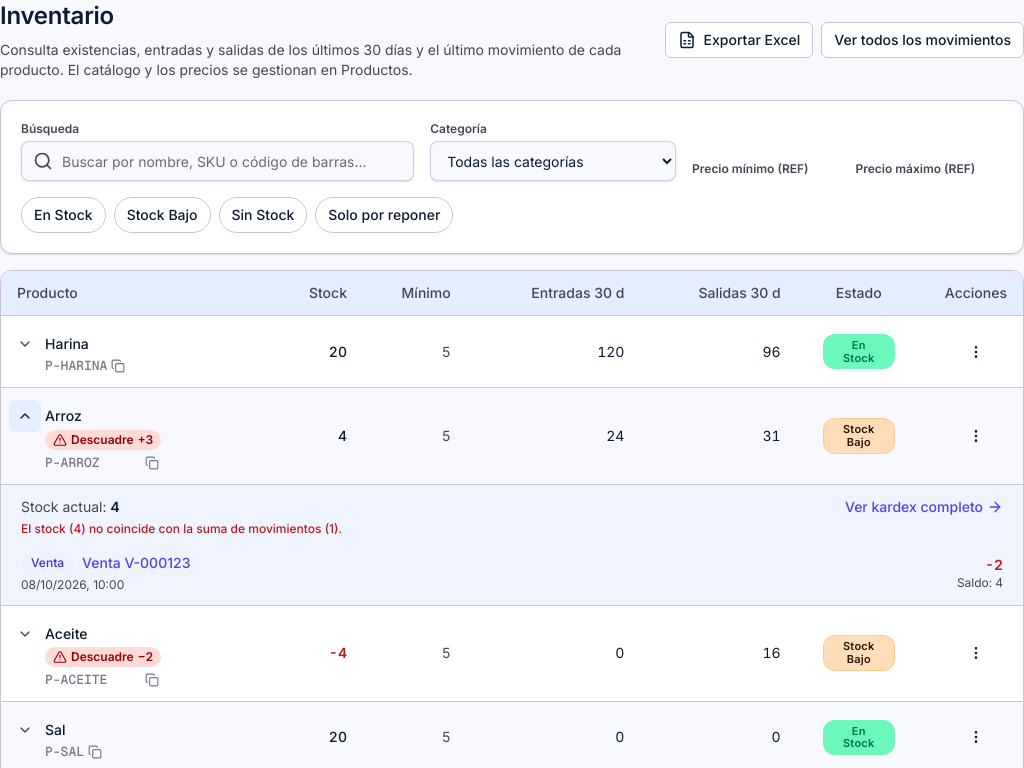
InventoryListPage · vista única de stock › movimientos en línea › keeps 'product' when a filter takes the product out of the page: it moves to the pinned block and comes back
Expected: the row named "Últimos movimientos de Arroz" is shown, x1=1 y1=484 x2=1023 y2=605
What coordinates should you click on to do the following:
click the button "Sin Stock"
I would click on:
 (263, 215)
Its box is x1=218 y1=197 x2=307 y2=233.
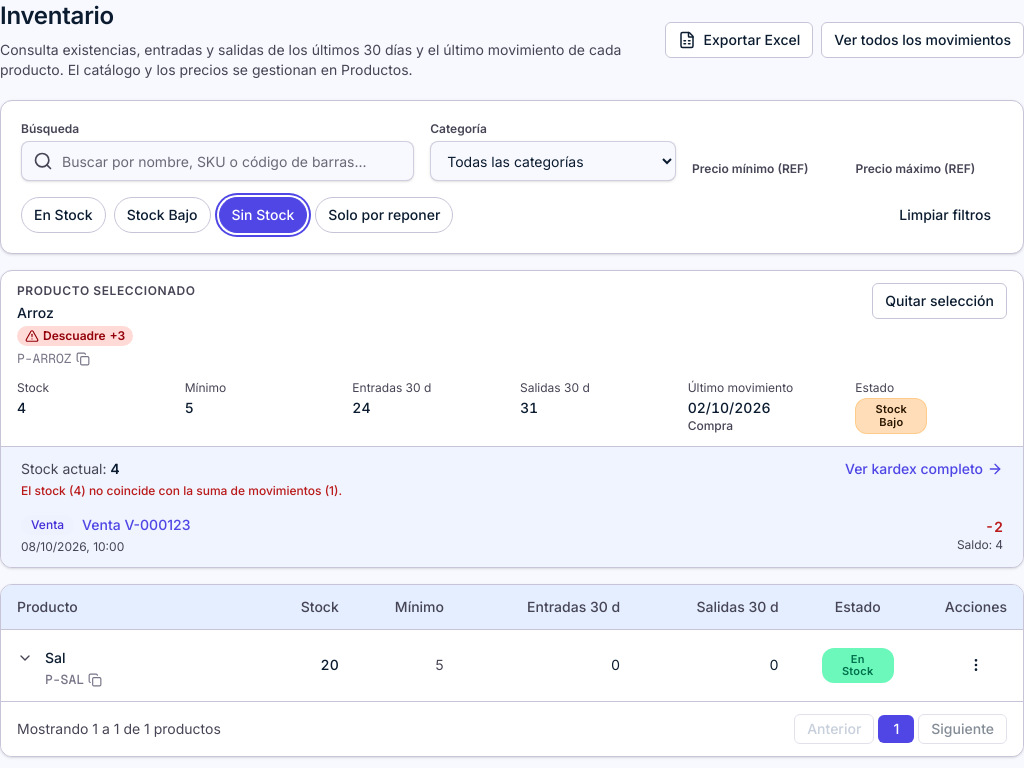
Expected: the text titled "Arroz" is shown, x1=17 y1=303 x2=54 y2=322
Expected: the element named "Últimos movimientos de Arroz" is shown, x1=1 y1=446 x2=1023 y2=566
What coordinates should you click on to do the following:
click the button "Limpiar filtros"
I would click on:
 (945, 215)
Its box is x1=887 y1=197 x2=1003 y2=233.
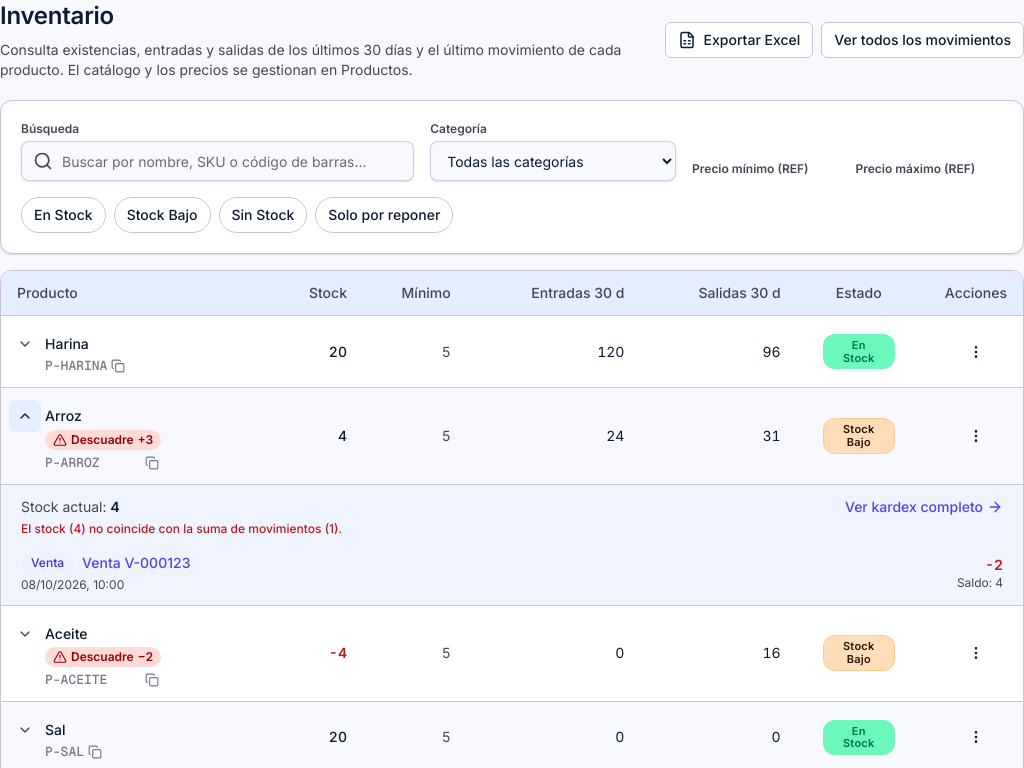
Expected: the heading "Producto seleccionado" is gone
